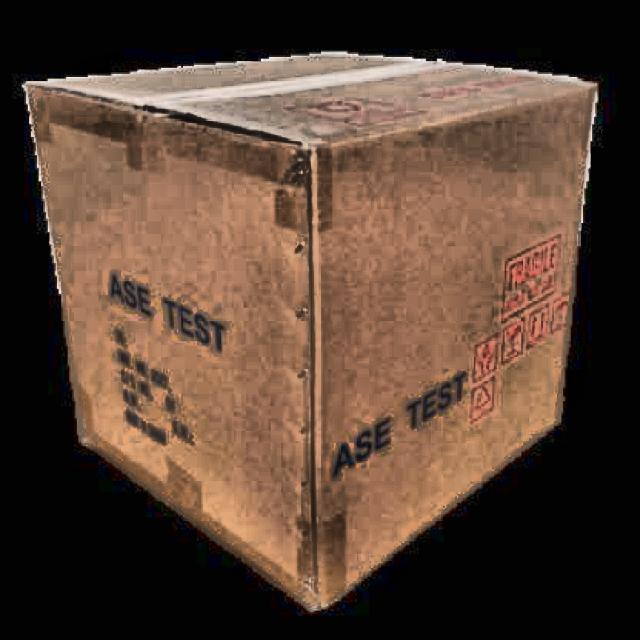Cardbox: (13, 45, 604, 622)
